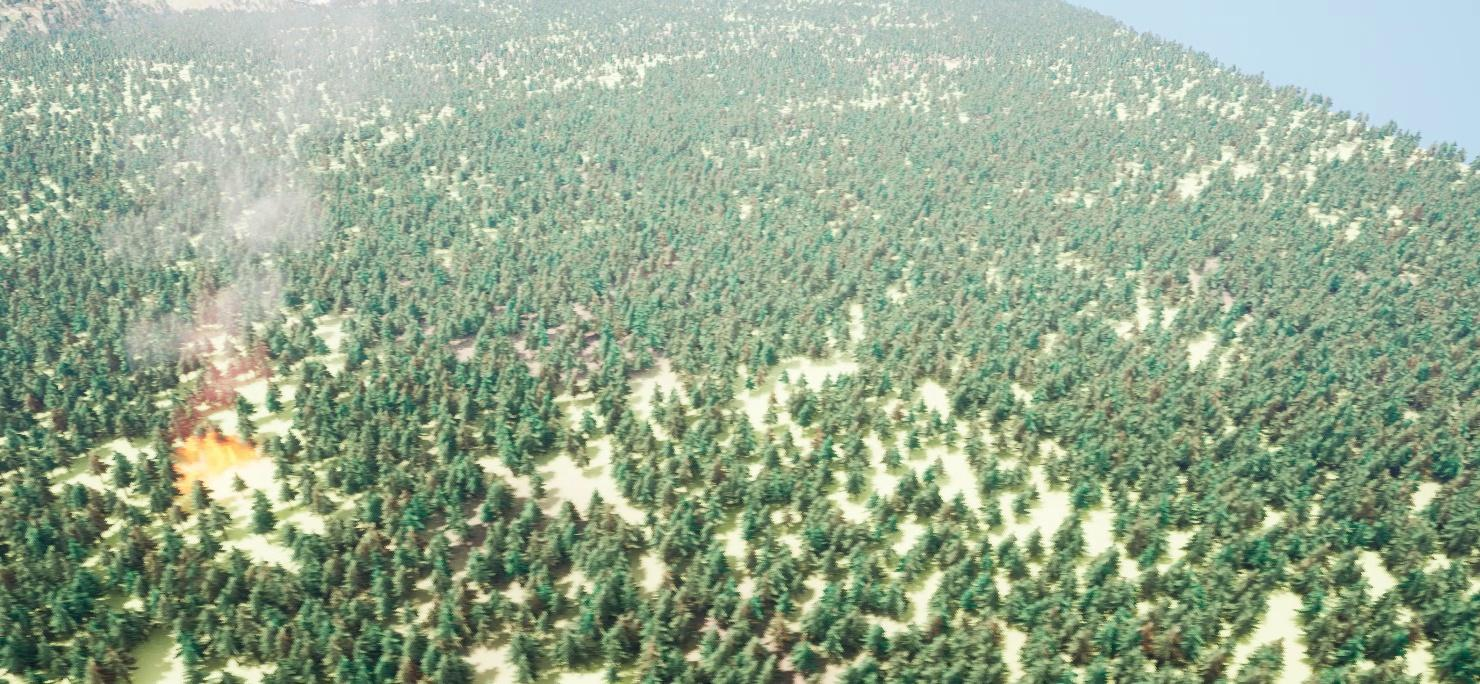fire: (171, 426, 254, 495)
smoke: (112, 0, 390, 380)
